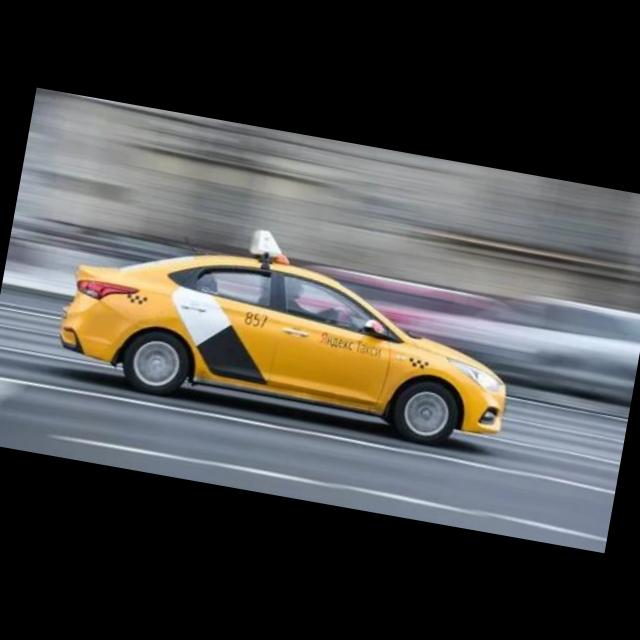taxi: (50, 196, 529, 457)
